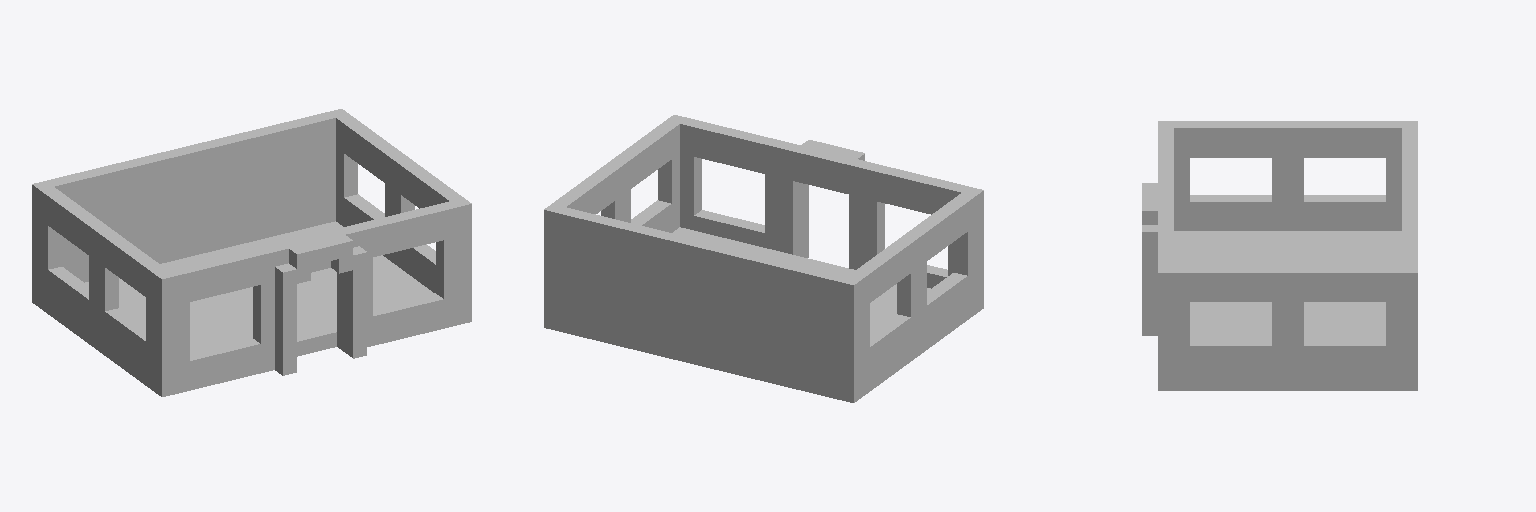
Rendered from House.obj.
3 renders of one model, left to right at view 1: azimuth 30°, elevation 25°; view 2: azimuth 150°, elevation 25°; view 3: azimuth 270°, elevation 25°, orthographic.
Visible parts, largest first — view 1: House; view 2: House; view 3: House.
Part boxes in pixels (x1,y1,x2,y2): House: (32,109,471,396); House: (544,115,983,402); House: (1142,121,1417,390).
Bounding box in the file's own units: 22 × 8 × 17.